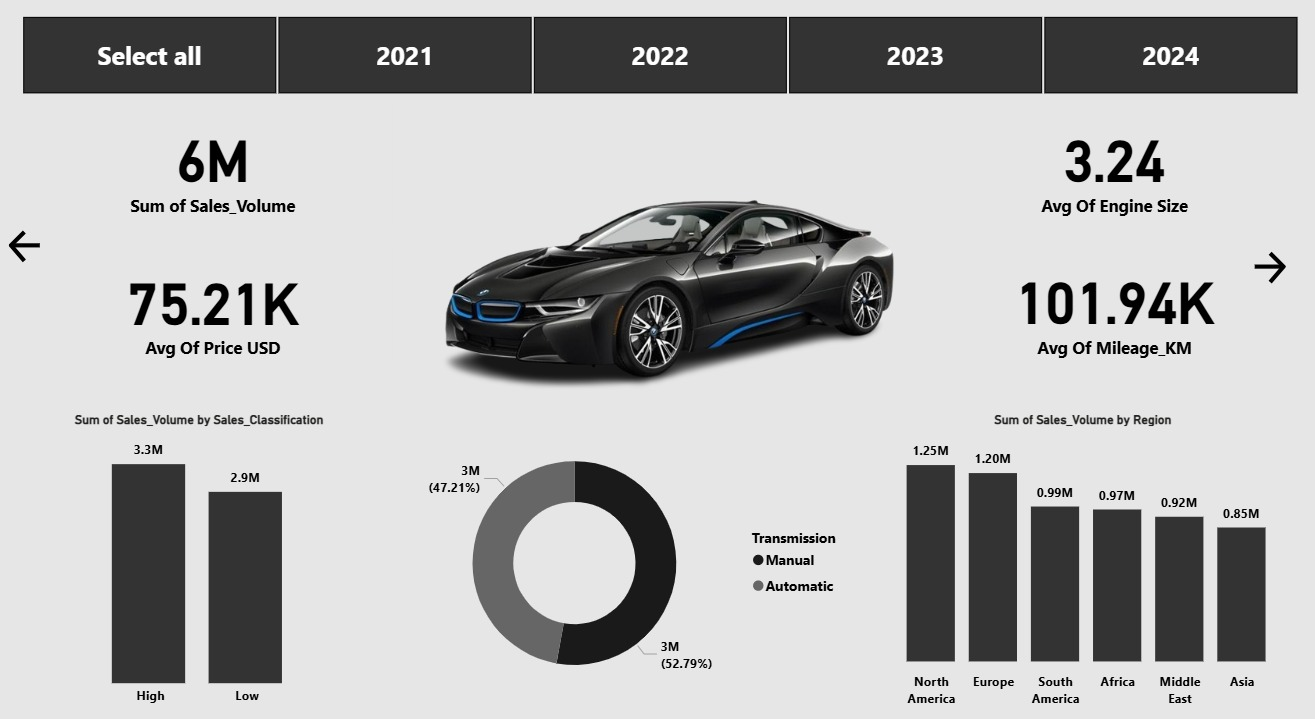

This screenshot's page, from the dashboard's own definition file:
{"tool":"powerbi","page":{"name":"I8","canvas":[1280,720],"ordinal":4},"visuals":[{"type":"slicer","fields":{"Values":["BMW_Car_Sales_Classification.Year"]},"box":[0,21.7,1280,88.1],"z":0},{"type":"donutChart","fields":{"Category":["BMW_Car_Sales_Classification.Transmission"],"Y":["Sum(BMW_Car_Sales_Classification.Sales_Volume)"]},"box":[382.4,410.2,456,292],"z":1000},{"type":"card","fields":{"Values":["Sum(BMW_Car_Sales_Classification.Sales_Volume)"]},"box":[36.2,114.6,346.2,115.8],"z":2000},{"type":"card","fields":{"Values":["BMW_Car_Sales_Classification.Avg Of Price"]},"box":[36.2,250.9,346.2,118.2],"z":3000},{"type":"card","fields":{"Values":["BMW_Car_Sales_Classification.Avg Of Engine Size"]},"box":[903.6,114.6,352.3,115.8],"z":4000},{"type":"card","fields":{"Values":["BMW_Car_Sales_Classification.Avg Of Mileage_KM"]},"box":[903.6,243.7,352.3,131.5],"z":5000},{"type":"columnChart","fields":{"Category":["BMW_Car_Sales_Classification.Region"],"Y":["Sum(BMW_Car_Sales_Classification.Sales_Volume)"]},"box":[842.1,410.2,413.8,292],"z":6000},{"type":"columnChart","fields":{"Category":["BMW_Car_Sales_Classification.Sales_Classification"],"Y":["Sum(BMW_Car_Sales_Classification.Sales_Volume)"]},"box":[22.9,410.2,346.2,292],"z":7000},{"type":"image","box":[403,135.1,492.2,311.3],"z":8000},{"type":"actionButton","box":[8.4,230.4,100.1,39.8],"z":9000},{"type":"actionButton","box":[1208.9,250.9,61.5,39.8],"z":10000}]}

Visuals, with their boxes in screenshot pixels (x1, y1, x2, y2), scaled from the page's 1280x720 canvas onto the 1315x719 screenshot:
slicer - BMW_Car_Sales_Classification.Year: [x1=0, y1=22, x2=1314, y2=110]
donutChart - BMW_Car_Sales_Classification.Transmission x Sum(BMW_Car_Sales_Classification.Sales_Volume): [x1=393, y1=410, x2=861, y2=701]
card - Sum(BMW_Car_Sales_Classification.Sales_Volume): [x1=37, y1=114, x2=393, y2=230]
card - BMW_Car_Sales_Classification.Avg Of Price: [x1=37, y1=251, x2=393, y2=369]
card - BMW_Car_Sales_Classification.Avg Of Engine Size: [x1=928, y1=114, x2=1290, y2=230]
card - BMW_Car_Sales_Classification.Avg Of Mileage_KM: [x1=928, y1=243, x2=1290, y2=375]
columnChart - BMW_Car_Sales_Classification.Region x Sum(BMW_Car_Sales_Classification.Sales_Volume): [x1=865, y1=410, x2=1290, y2=701]
columnChart - BMW_Car_Sales_Classification.Sales_Classification x Sum(BMW_Car_Sales_Classification.Sales_Volume): [x1=24, y1=410, x2=379, y2=701]
image: [x1=414, y1=135, x2=920, y2=446]
actionButton: [x1=9, y1=230, x2=111, y2=270]
actionButton: [x1=1242, y1=251, x2=1305, y2=290]
